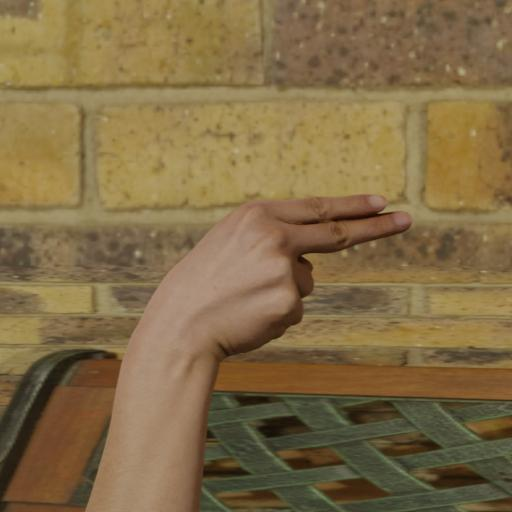H: (121, 170, 425, 381)
